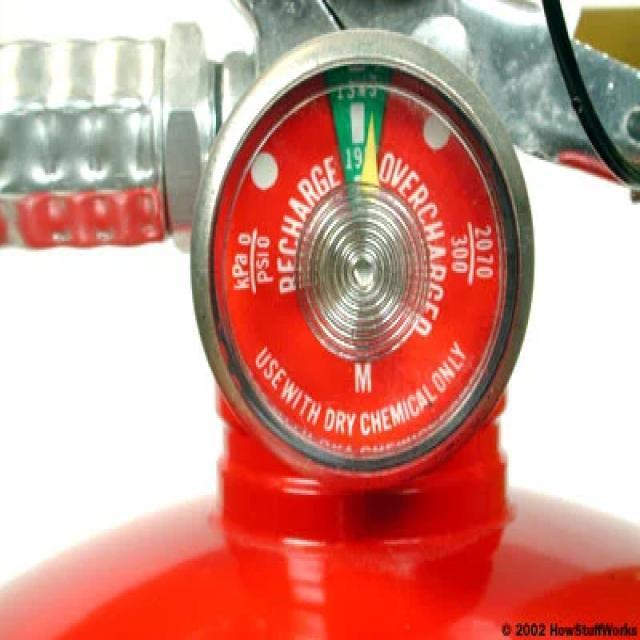pressure gauge: (194, 31, 530, 485)
